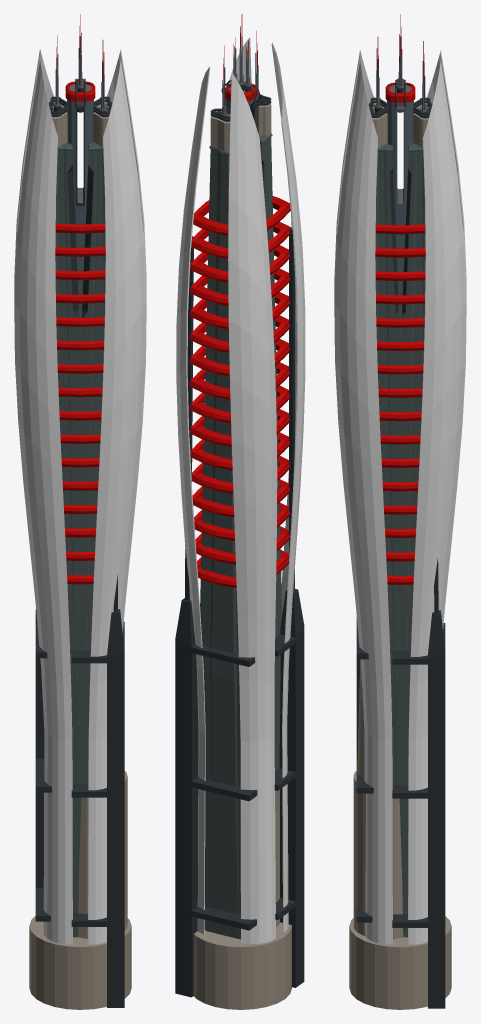
File: building_63.fbx
3 views of the same model, side by side, from view 1: azimuth 90°, elevation 25°; view 2: azimuth 150°, elevation 25°; view 3: azimuth 270°, elevation 25° (orthographic).
Visible parts, largest first — view 1: building_63; view 2: building_63; view 3: building_63.
Boxes of the visible parts, x1,y1,x2,y2 form: building_63: (14, 14, 146, 1009); building_63: (175, 14, 305, 1009); building_63: (334, 14, 466, 1009).
Size of the model in its own units: 560 by 5647 by 695.
